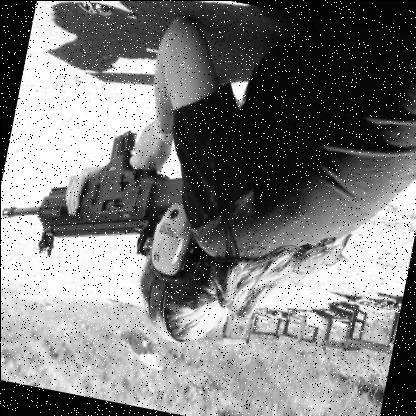rifle: (0, 100, 226, 307)
